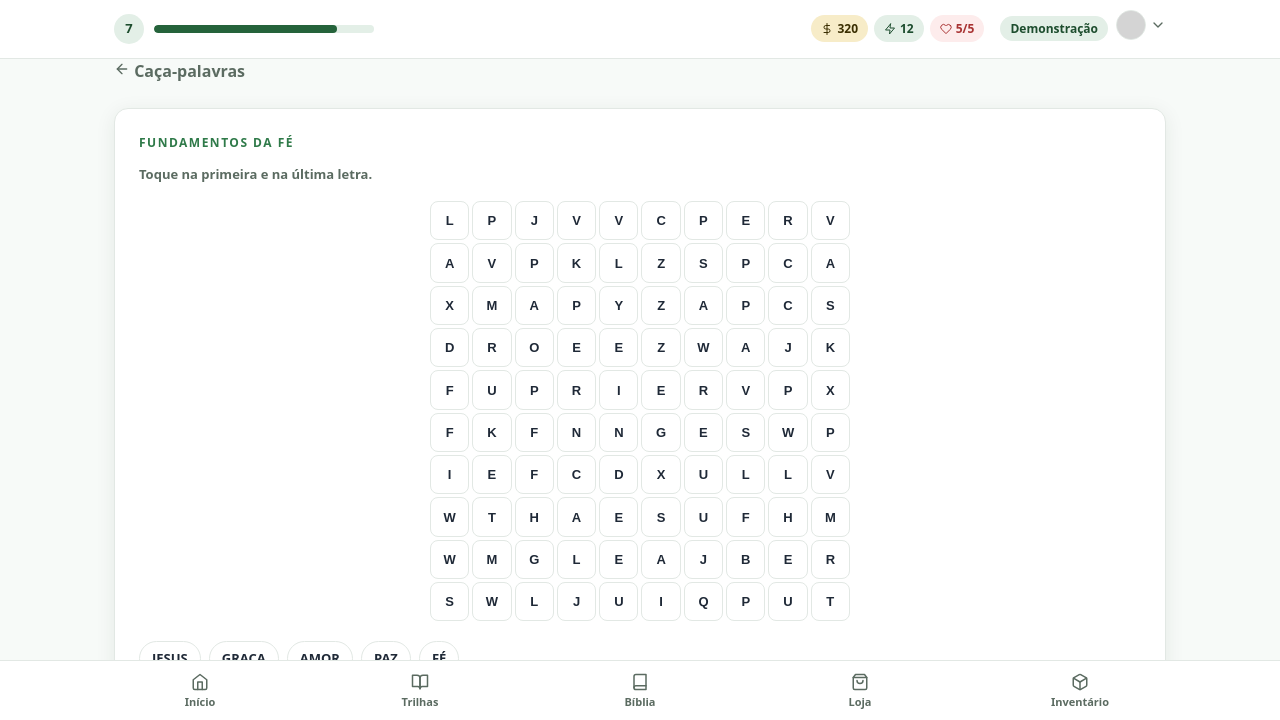
WordSearchPlayPage › primeiro toque muda o aviso pedindo a última letra
Click the 1st button with class "caca-palavras-celula" at (450, 221), box [430,201,469,240]
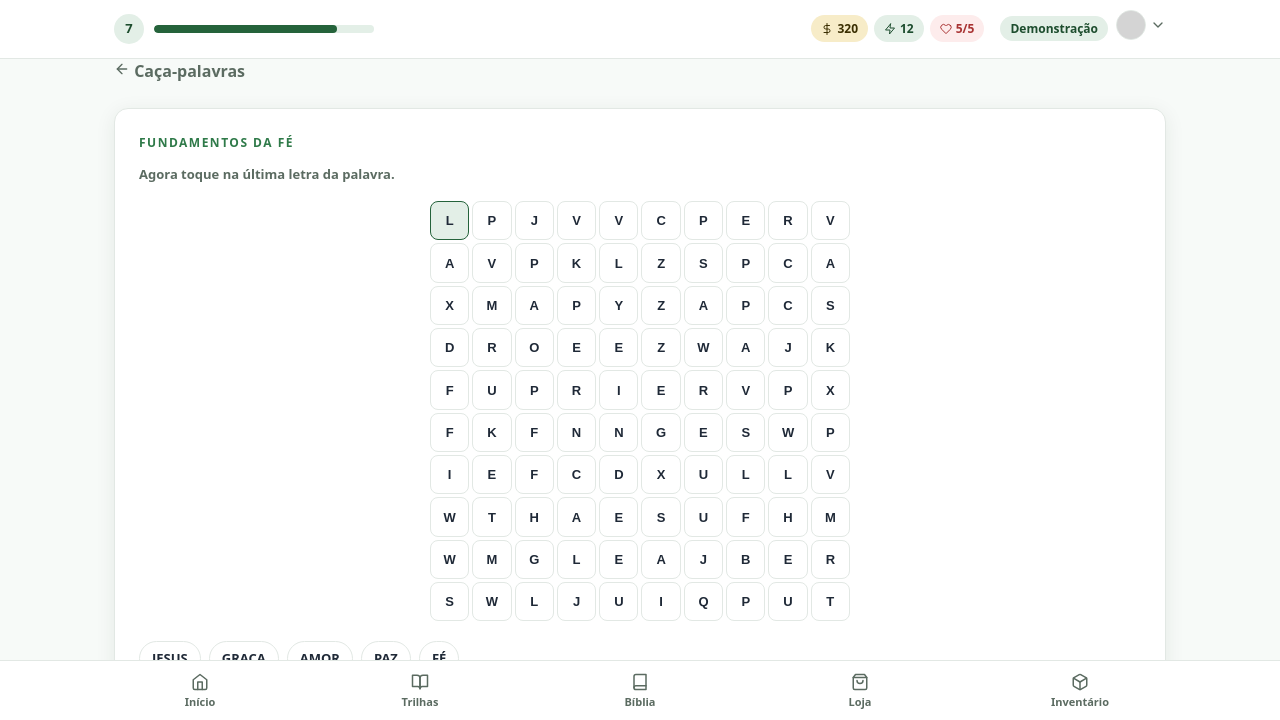
Result: the text "Agora toque na última letra da palavra." is shown at [139,165,395,183]
